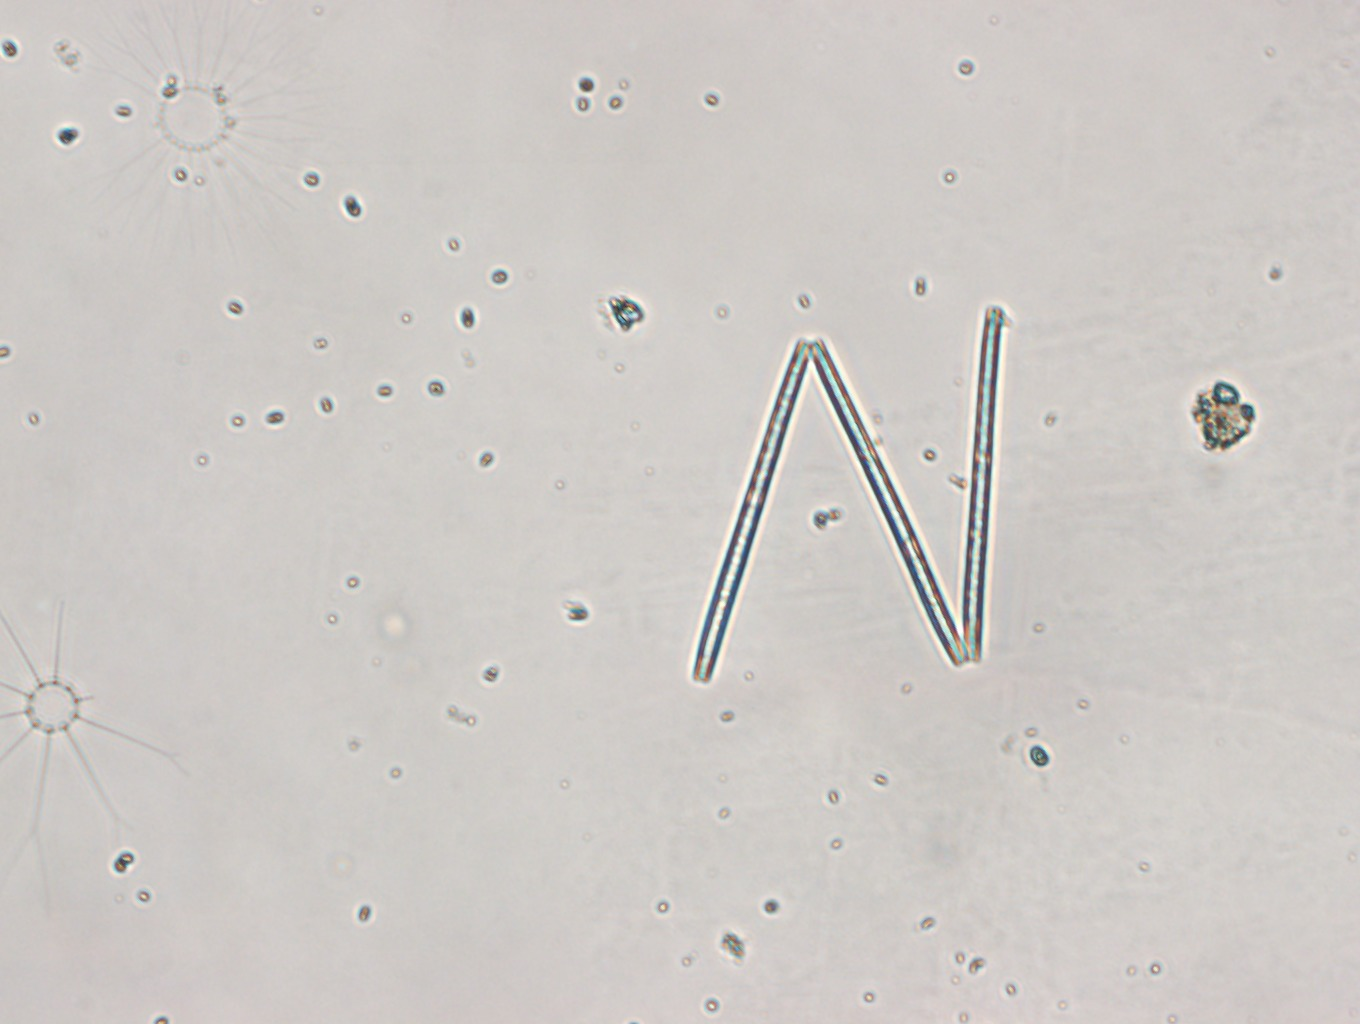bacteriastrum: (69, 1, 328, 265), (1, 602, 200, 901)
thalassionema nitzschioides: (692, 304, 1005, 684)
